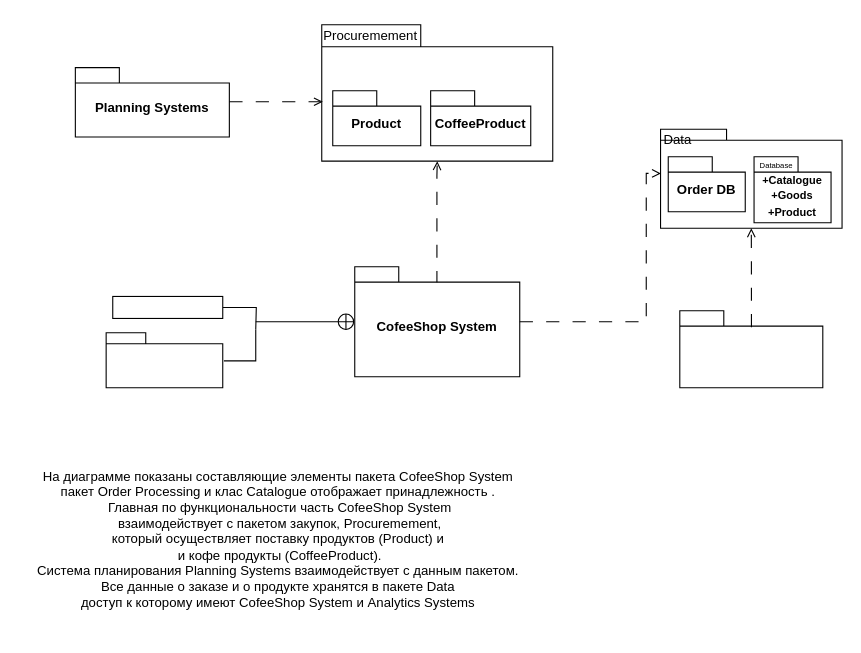
Image size: 861x653. Some labels were removed from this diagram. The centre of each missing label's shape, as x and y in pixels:
Analytics Systems: (751,349)
Catalogue: (167,306)
Order Processing: (164,360)
